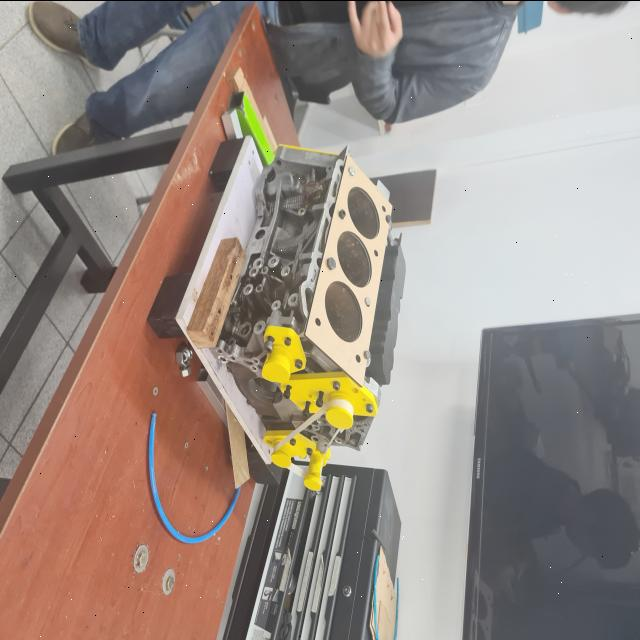vista1: (305, 153, 392, 385)
